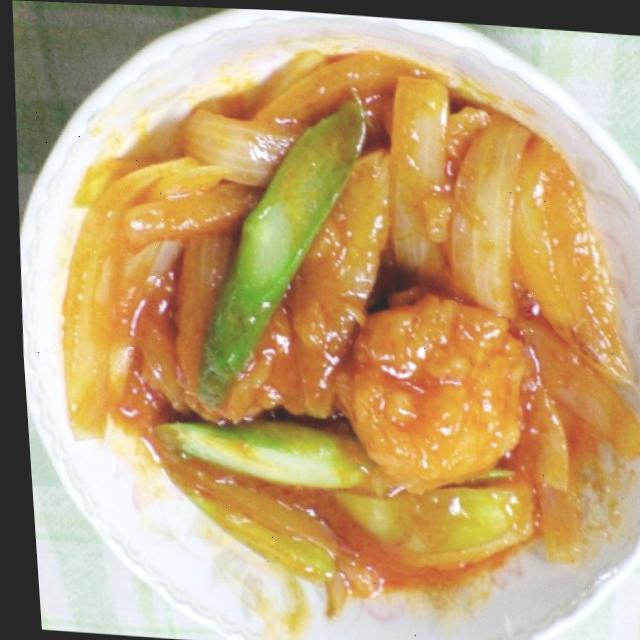熟制海鲜: (3, 48, 640, 640)
